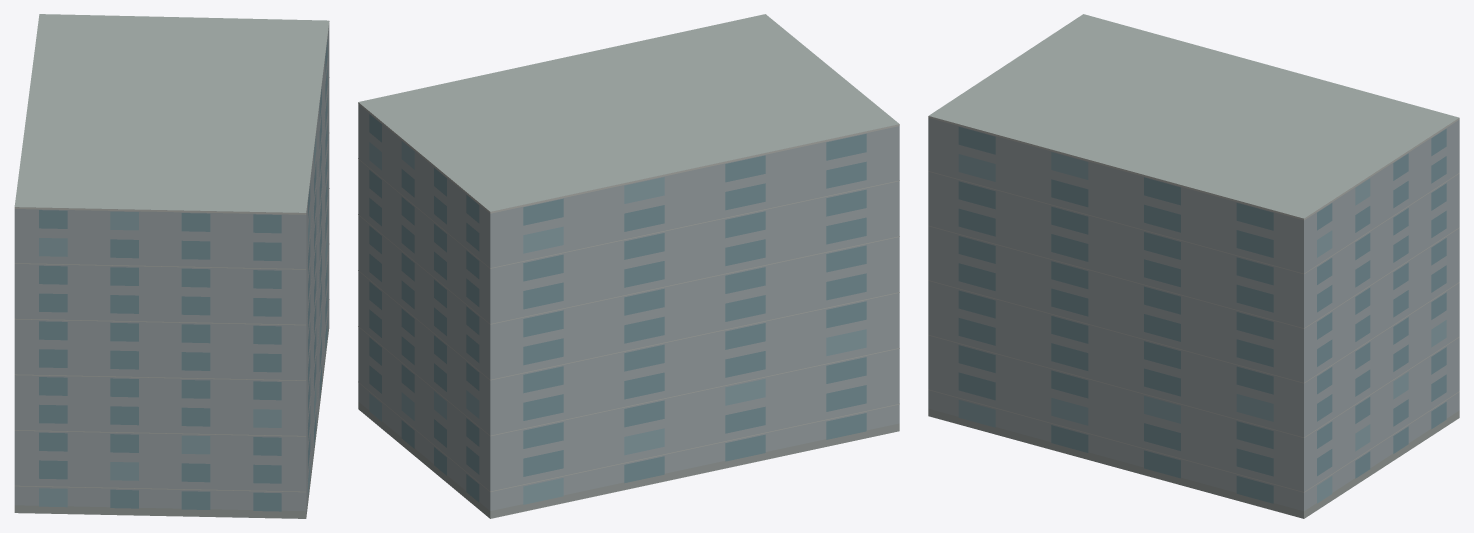
File: survey-upis-32733774.glb
3 views of the same model, side by side, from view 1: azimuth 30°, elevation 25°; view 2: azimuth 150°, elevation 25°; view 3: azimuth 270°, elevation 25° (orthographic). The views are drawn at different scales.
Visible parts, largest first — view 1: survey-upis-32733774.tmp; view 2: survey-upis-32733774.tmp; view 3: survey-upis-32733774.tmp.
Part boxes in pixels (x1,y1,x2,y2): survey-upis-32733774.tmp: [14, 14, 329, 518]; survey-upis-32733774.tmp: [358, 14, 899, 518]; survey-upis-32733774.tmp: [928, 14, 1459, 518].
Size of the model in its own units: 57.9 by 39.61 by 63.51.
